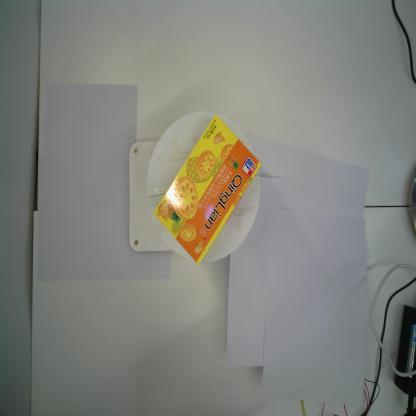Dessert: (152, 112, 262, 266)
